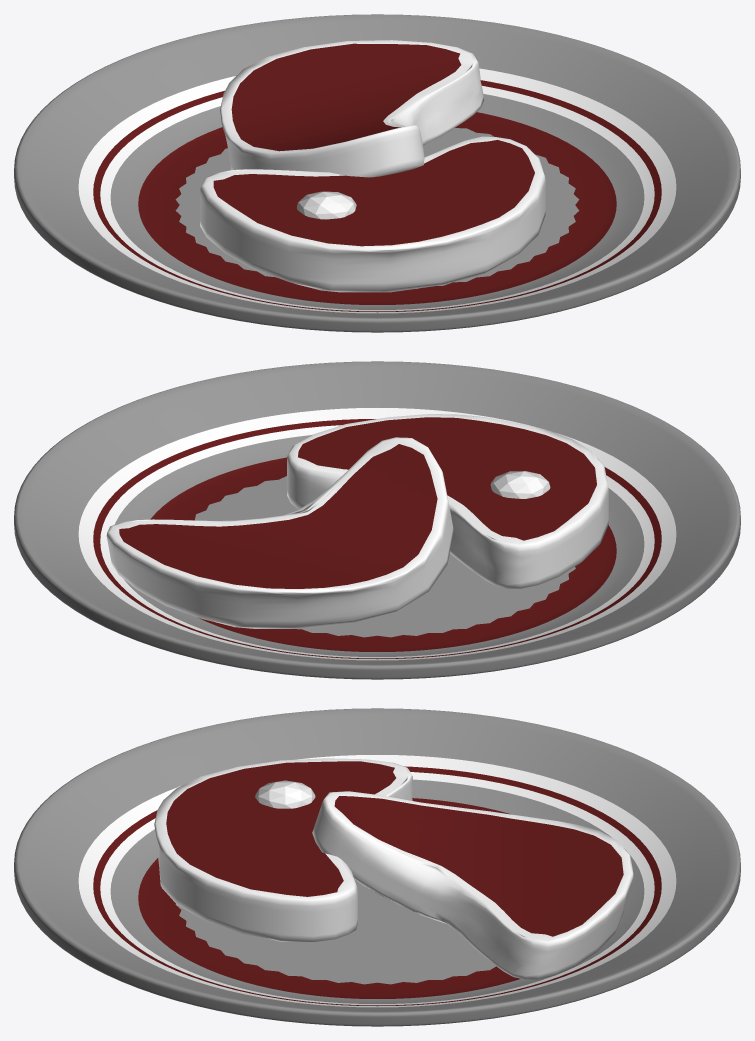
File: Steak_245.dae
3 renders of one model, top to bottom at view 1: azimuth 30°, elevation 25°; view 2: azimuth 150°, elevation 25°; view 3: azimuth 270°, elevation 25°, orthographic.
Parts seen in each view (by area): view 1: ChamferCyl001, Cylinder001, Cylinder002, GeoSphere001; view 2: ChamferCyl001, Cylinder002, Cylinder001, GeoSphere001; view 3: ChamferCyl001, Cylinder002, Cylinder001, GeoSphere001.
Part boxes in pixels (<box>): ChamferCyl001: <box>14,14,740,332</box>; Cylinder001: <box>200,136,545,292</box>; Cylinder002: <box>220,40,483,177</box>; GeoSphere001: <box>297,191,356,219</box>; ChamferCyl001: <box>14,361,740,679</box>; Cylinder002: <box>106,437,453,628</box>; Cylinder001: <box>287,414,608,588</box>; GeoSphere001: <box>490,471,550,498</box>; ChamferCyl001: <box>14,708,740,1026</box>; Cylinder002: <box>312,791,633,979</box>; Cylinder001: <box>154,758,412,941</box>; GeoSphere001: <box>255,780,315,808</box>.
Size of the model in its own units: 4.18 by 0.6996 by 4.18.
